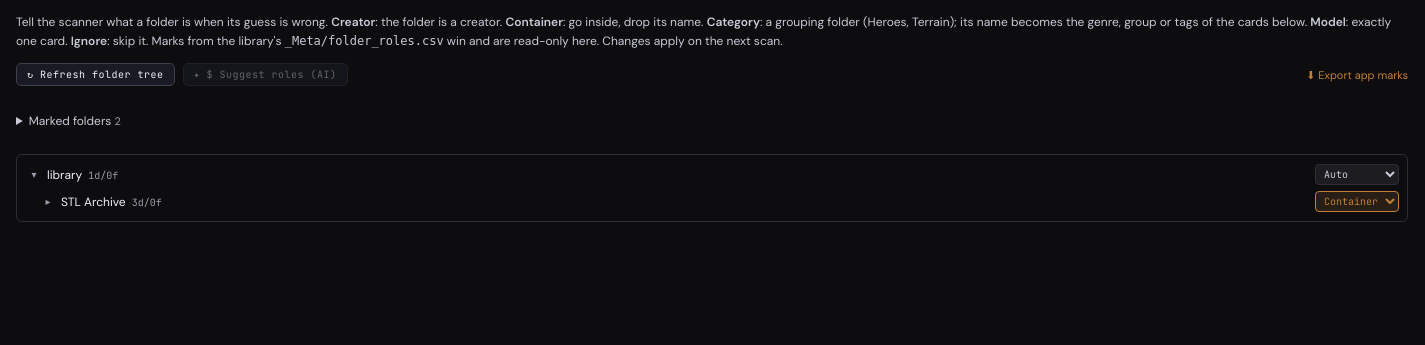
it: Folder Roles panel › truncated folders load their children on expand
The width and height of the screenshot is (1425, 345).
Click the button named "Expand STL Archive". click: click(48, 202)
box: x1=41 y1=196 x2=55 y2=207
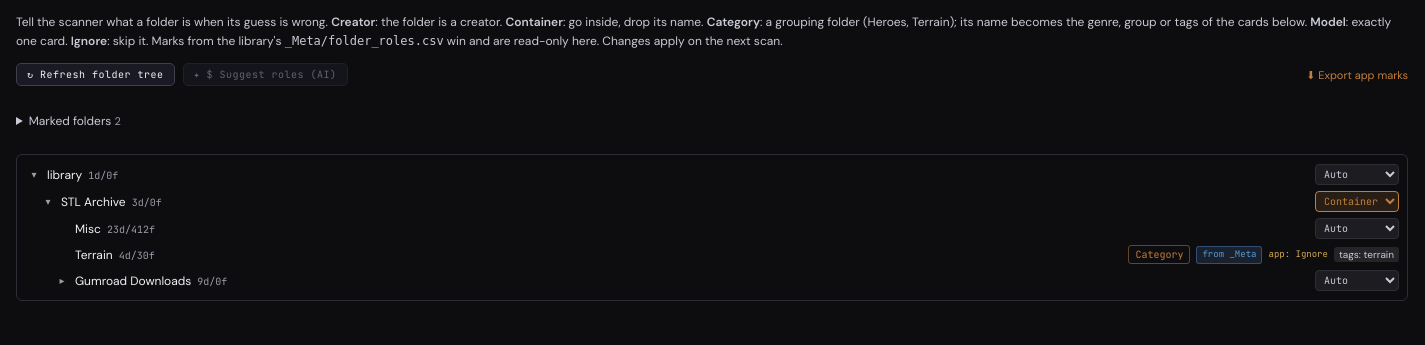
Click the button named "Expand Gumroad Downloads". click: click(62, 281)
box: x1=55 y1=275 x2=69 y2=286
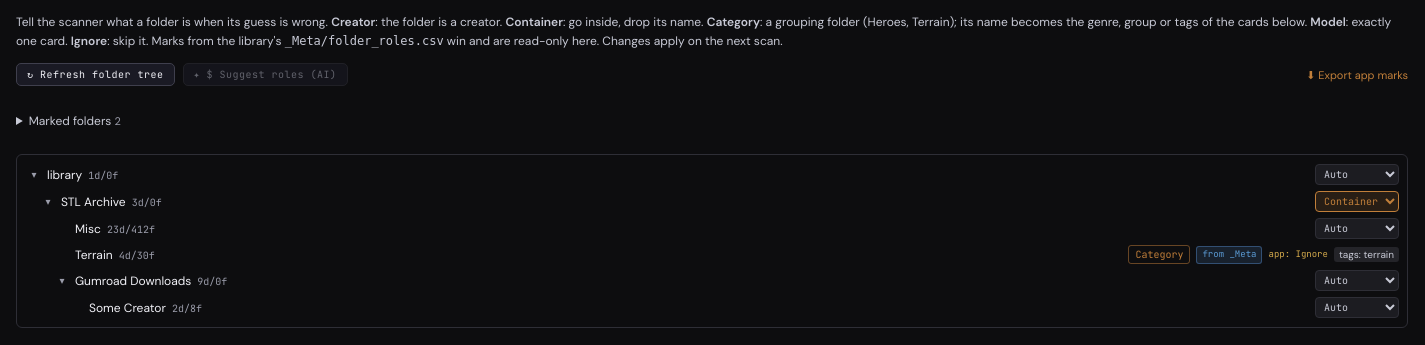
Check: the dropdown named "Role for Some Creator" is shown, box x1=1315 y1=297 x2=1399 y2=318
